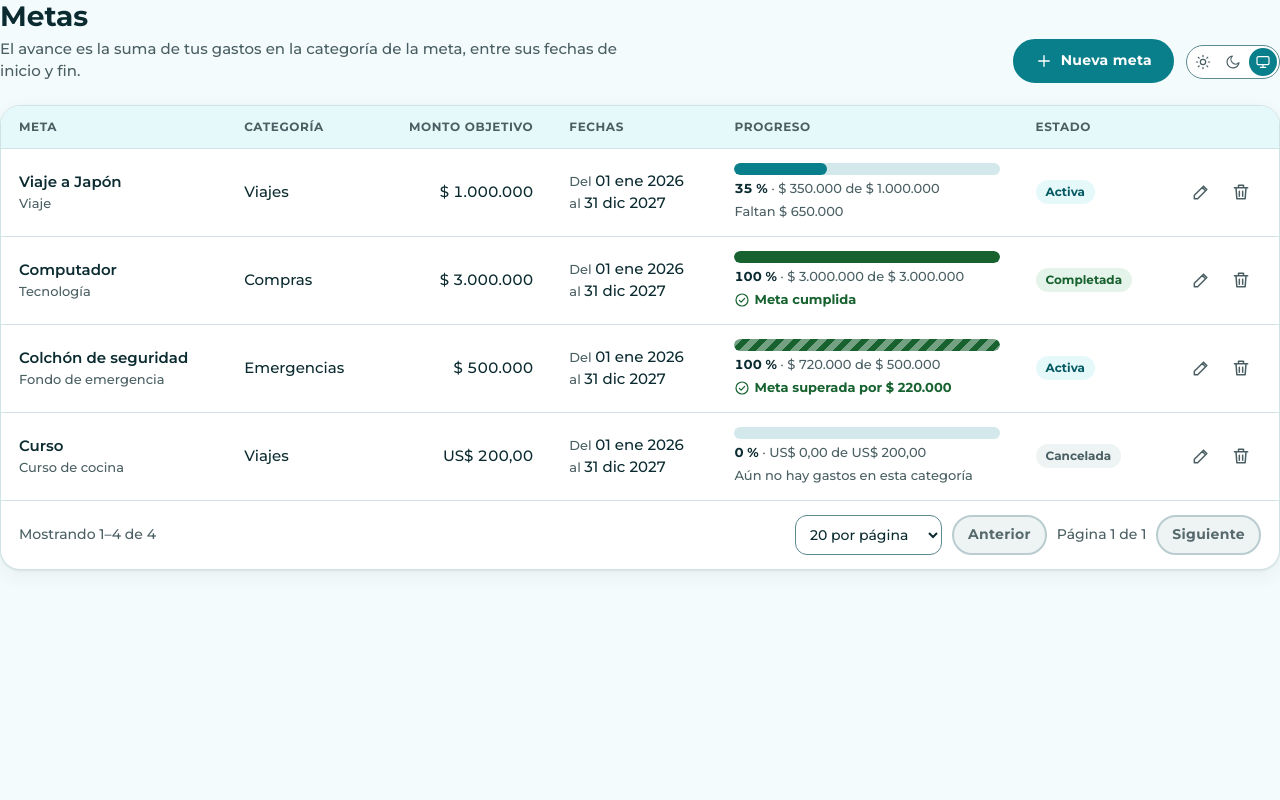
Test case: Metas: create › sends the goal, then closes, shows a toast and reads the list again
The width and height of the screenshot is (1280, 800).
Expected: the text "Viaje a Japón" is shown, top-left (19, 172), bottom-right (122, 191)
Click the button "Nueva meta" at (1093, 61), box top-left (1013, 39), bottom-right (1174, 83)
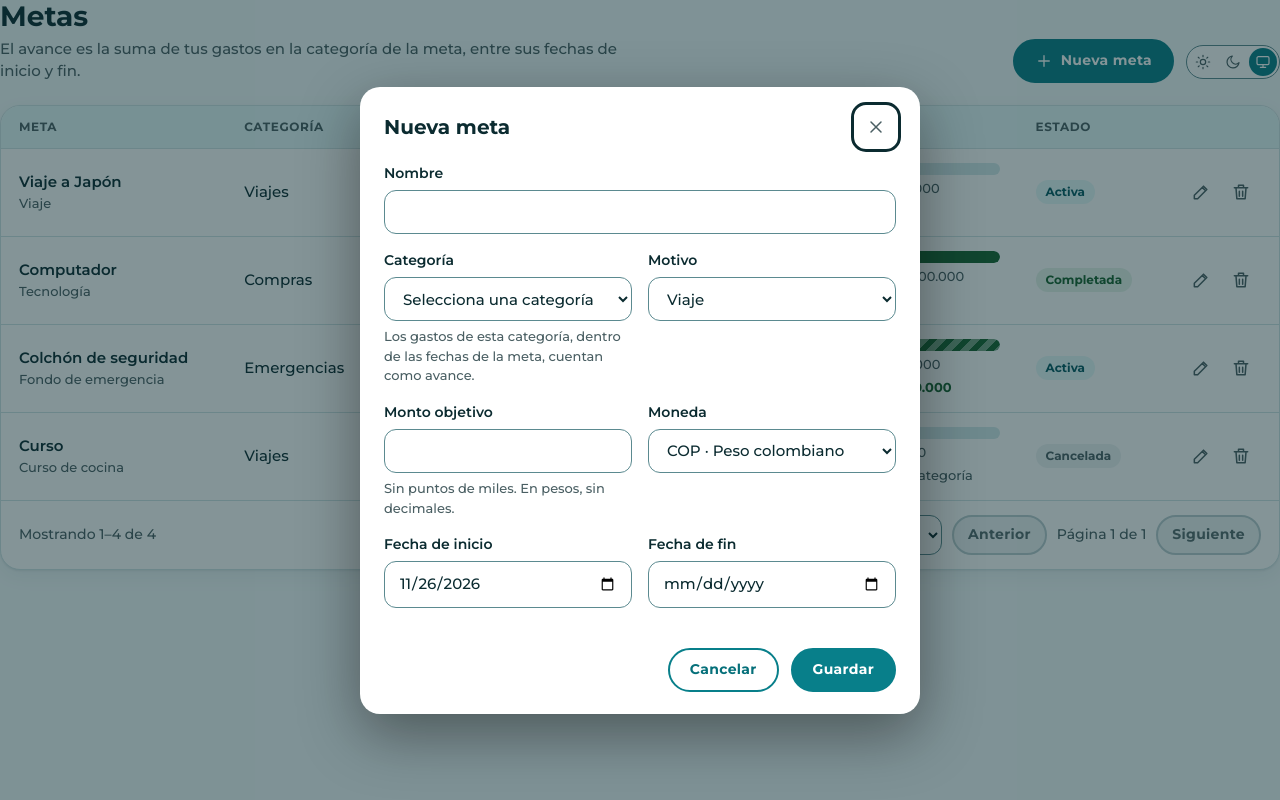
Type "  Casa propia " into the field labelled "Nombre" at (640, 212), box top-left (384, 190), bottom-right (896, 234)
Select "Compras" in the dropdown labelled "Categoría" at (508, 299), box top-left (384, 277), bottom-right (632, 321)
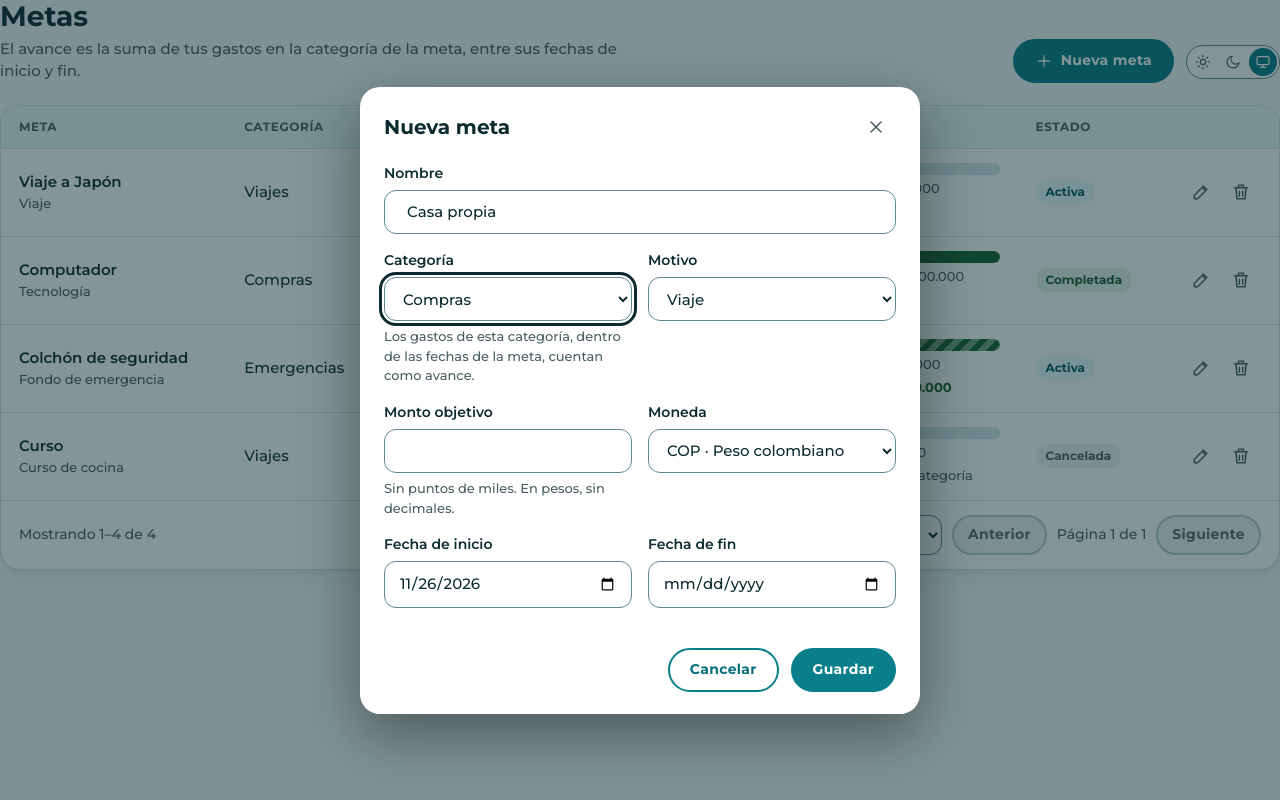
Select "Compra de vivienda" in the dropdown labelled "Motivo" at (772, 299), box top-left (648, 277), bottom-right (896, 321)
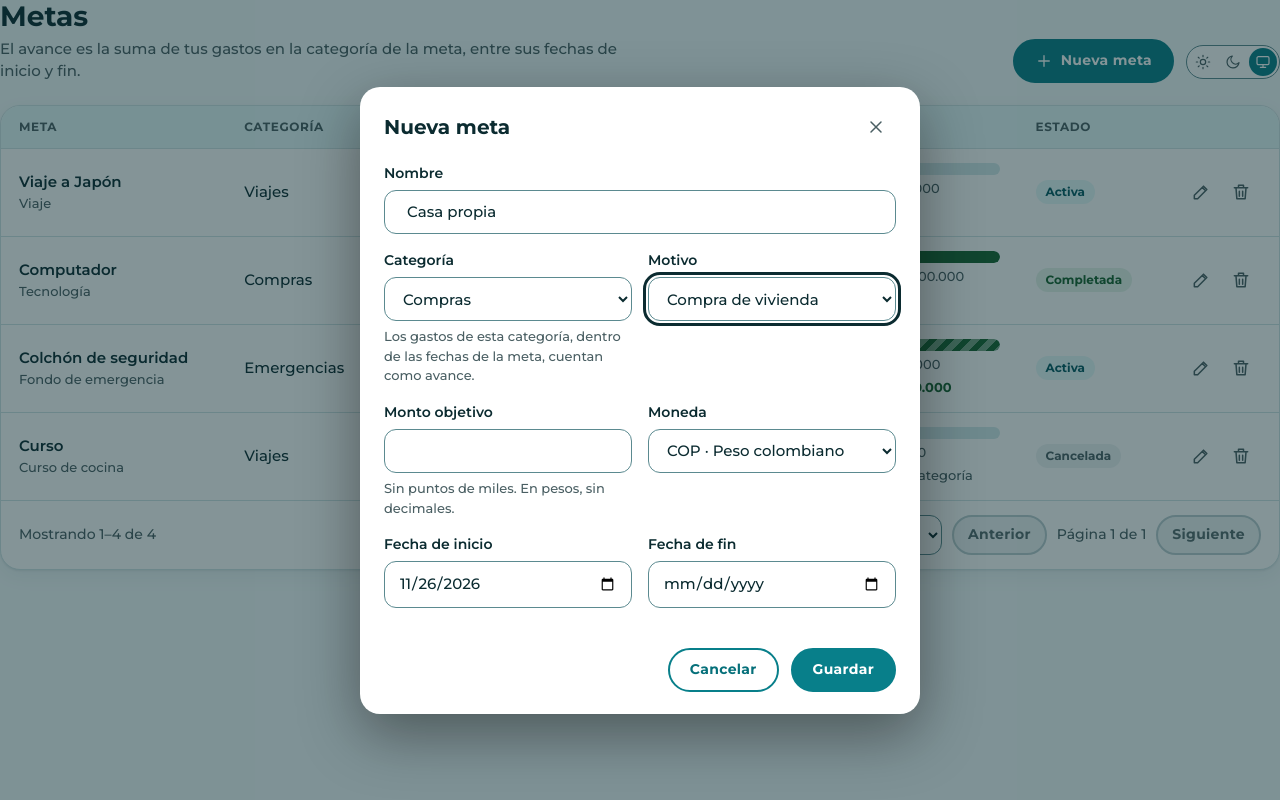
Type "80000000" into the field labelled "Monto objetivo" at (508, 451), box top-left (384, 428), bottom-right (632, 473)
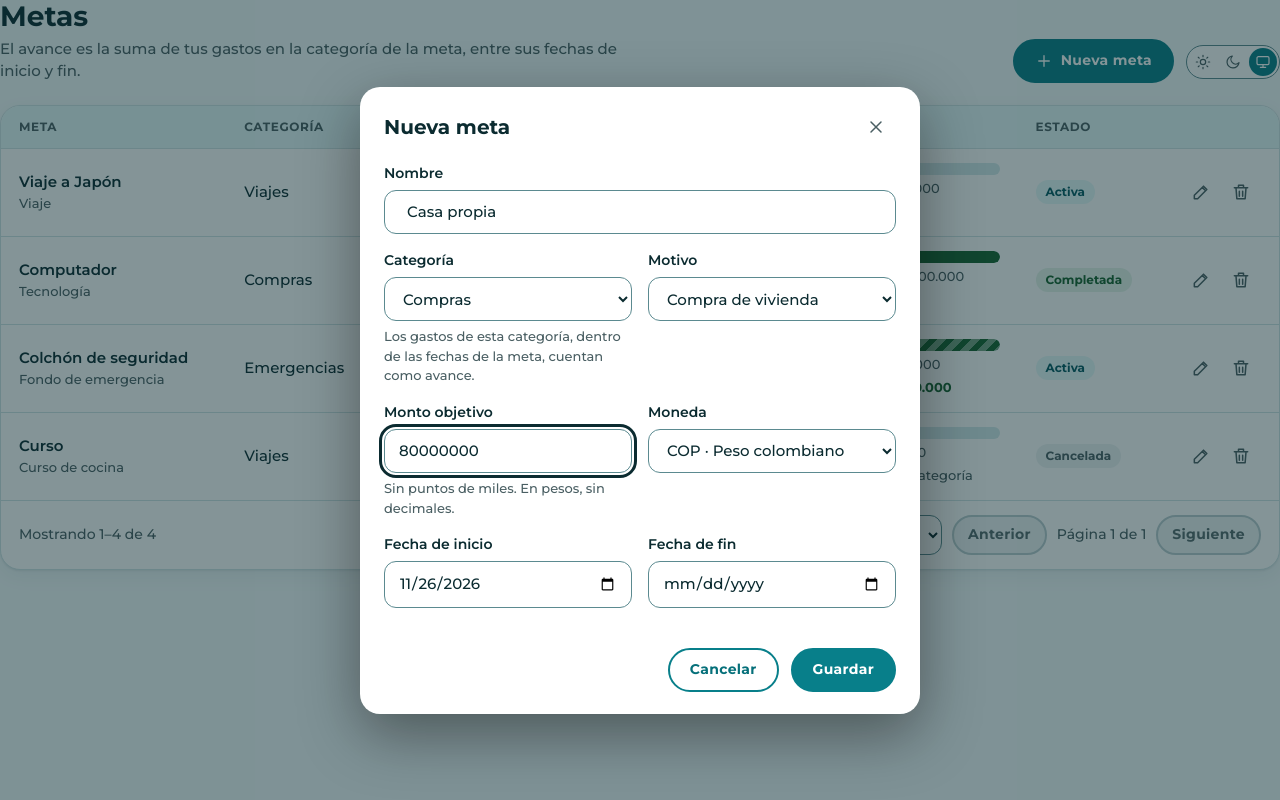
Type "2099-12-31" into the date field labelled "Fecha de fin" at (772, 584), box top-left (648, 561), bottom-right (896, 608)
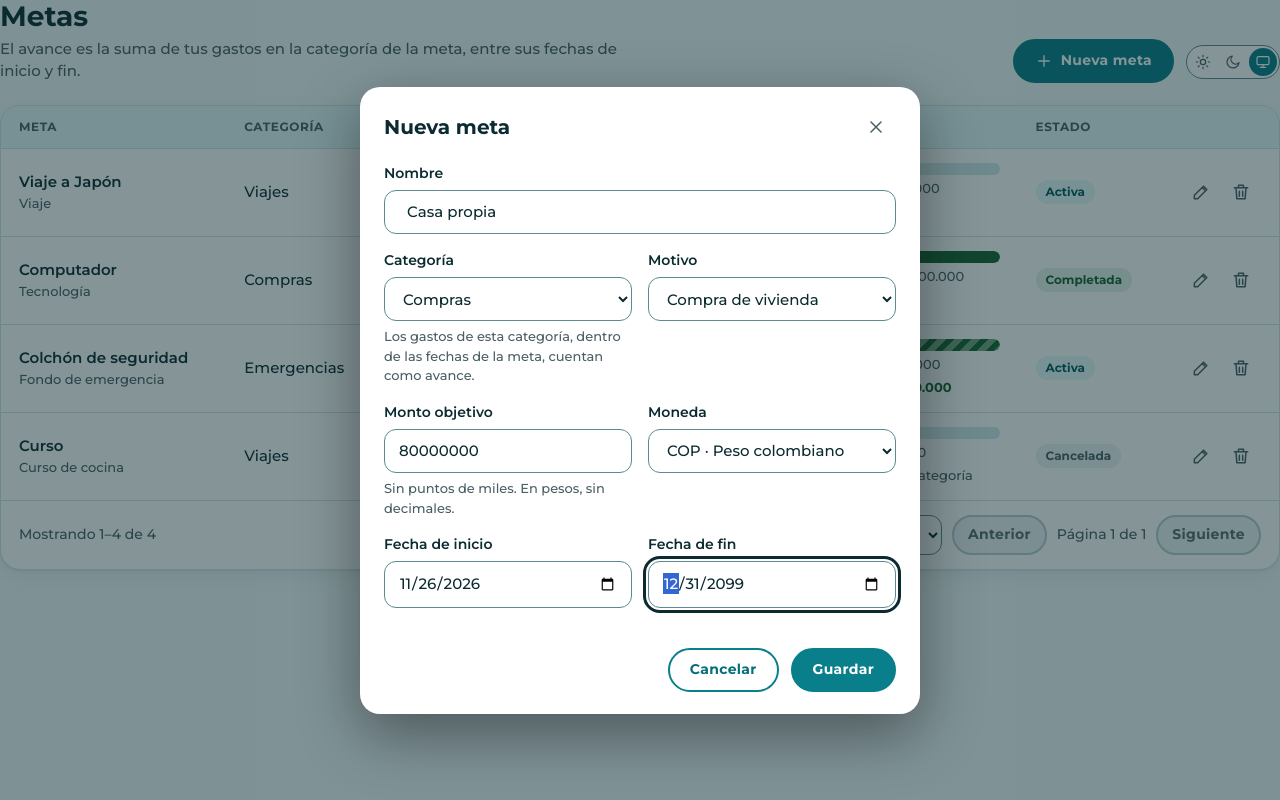
Click the button "Guardar" at (843, 670), box top-left (791, 648), bottom-right (896, 692)
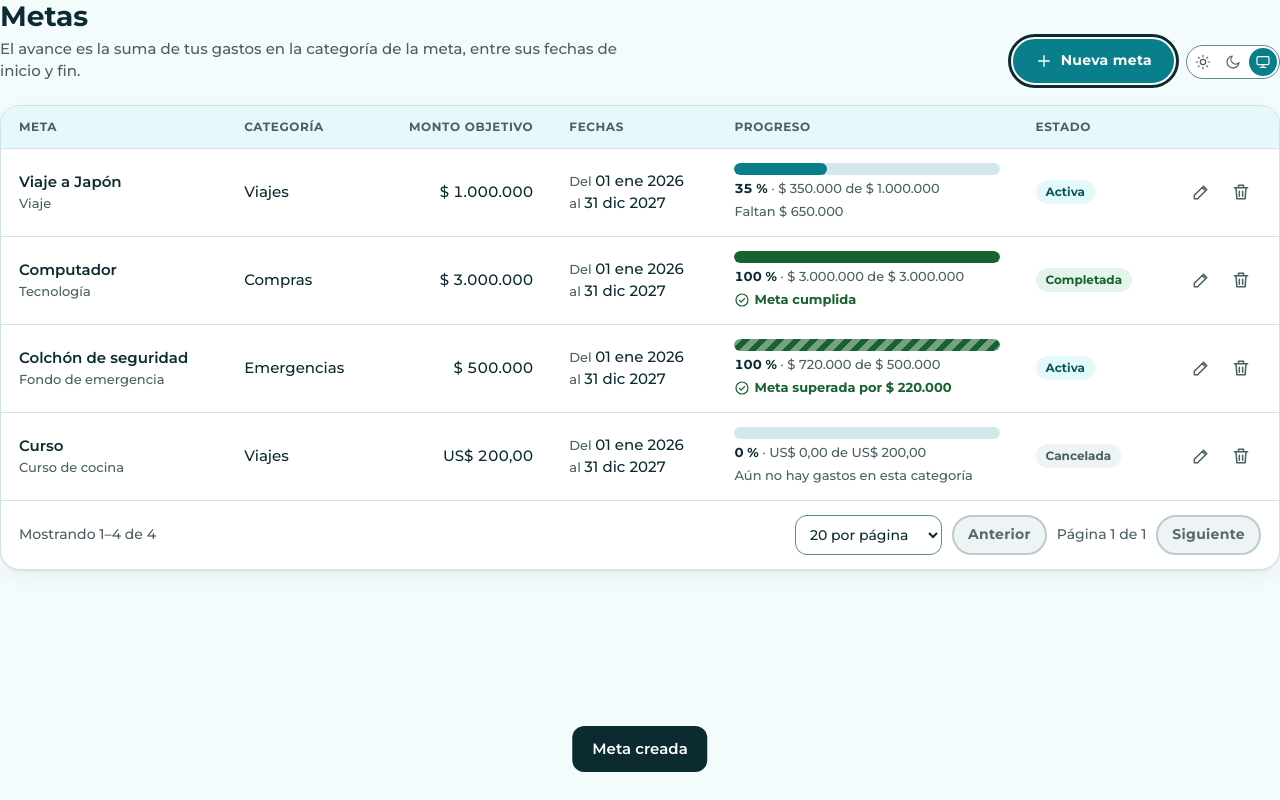
Now the text "Meta creada" is shown, box top-left (572, 726), bottom-right (708, 772)
